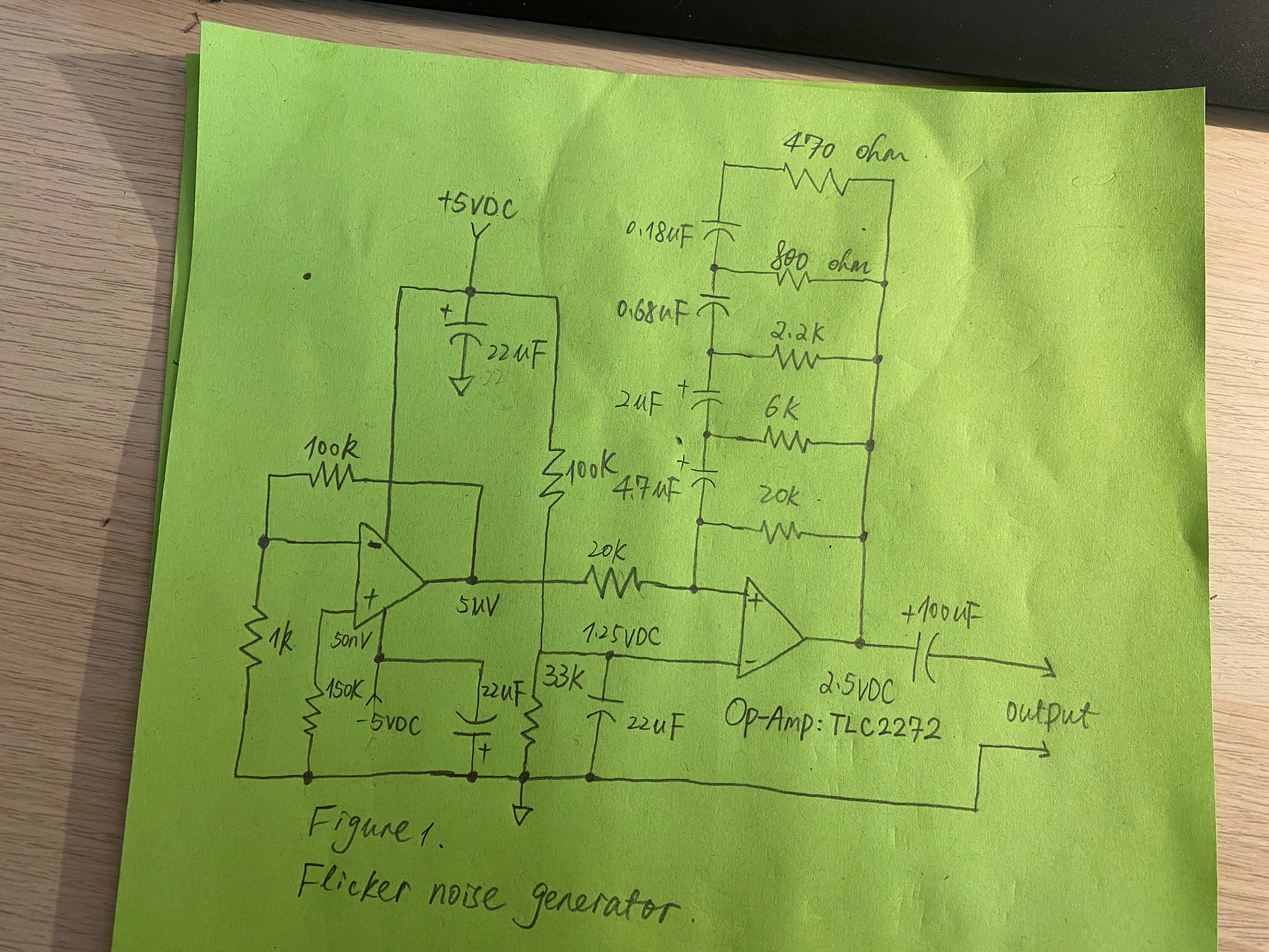capacitor.polarized: (899, 602, 943, 686), (451, 709, 498, 764), (439, 300, 489, 348), (676, 378, 725, 412), (679, 450, 719, 489)
capacitor.unpolarized: (584, 692, 626, 725), (699, 216, 743, 247), (694, 289, 734, 321)
crossover: (382, 474, 398, 489), (537, 575, 549, 587)
gnd: (446, 373, 477, 399), (510, 801, 535, 828)
junction: (860, 434, 879, 454), (255, 532, 273, 550), (300, 768, 317, 787), (854, 529, 870, 546), (462, 283, 479, 299), (852, 635, 868, 651), (870, 352, 886, 368), (372, 650, 388, 666), (686, 581, 702, 597), (464, 769, 479, 785), (517, 769, 532, 785), (464, 572, 479, 588), (583, 770, 598, 785), (967, 802, 982, 817), (708, 261, 723, 275), (549, 291, 563, 305), (394, 281, 408, 294), (878, 277, 891, 291), (475, 480, 489, 493), (718, 158, 731, 171), (263, 469, 276, 482), (974, 739, 987, 752), (316, 604, 329, 617), (602, 649, 616, 661), (705, 346, 717, 359), (701, 428, 713, 441), (694, 516, 706, 529), (230, 770, 241, 782), (887, 174, 898, 186), (477, 656, 487, 666), (535, 647, 545, 657)
operational_amplifier: (351, 520, 429, 632), (734, 574, 810, 681)
resistor: (580, 562, 646, 602), (779, 162, 853, 197), (536, 442, 570, 512), (238, 603, 271, 671), (306, 460, 357, 492), (760, 426, 813, 455), (770, 343, 822, 372), (756, 516, 806, 546), (519, 694, 544, 751), (299, 686, 323, 739), (774, 267, 813, 293)
terminal: (467, 221, 492, 242), (1038, 655, 1058, 681), (1037, 739, 1053, 760), (364, 693, 384, 707)
text: (295, 860, 698, 933), (723, 695, 943, 745), (307, 802, 447, 856), (782, 129, 910, 164), (769, 239, 873, 275), (1005, 697, 1101, 734), (818, 669, 897, 706), (436, 188, 517, 219), (609, 471, 681, 505), (614, 296, 690, 327), (919, 594, 985, 628), (625, 218, 694, 250), (581, 620, 659, 648), (486, 337, 550, 371), (568, 449, 620, 485), (357, 710, 424, 737), (301, 432, 361, 461), (626, 711, 686, 740), (614, 387, 664, 417), (768, 320, 826, 345), (541, 661, 584, 692), (455, 591, 502, 617), (763, 392, 802, 423), (756, 483, 805, 507), (267, 619, 297, 657), (479, 680, 524, 704), (325, 677, 367, 702), (586, 539, 628, 563), (329, 630, 374, 650), (364, 586, 378, 612), (747, 591, 762, 613), (364, 539, 383, 553), (742, 655, 760, 668)
